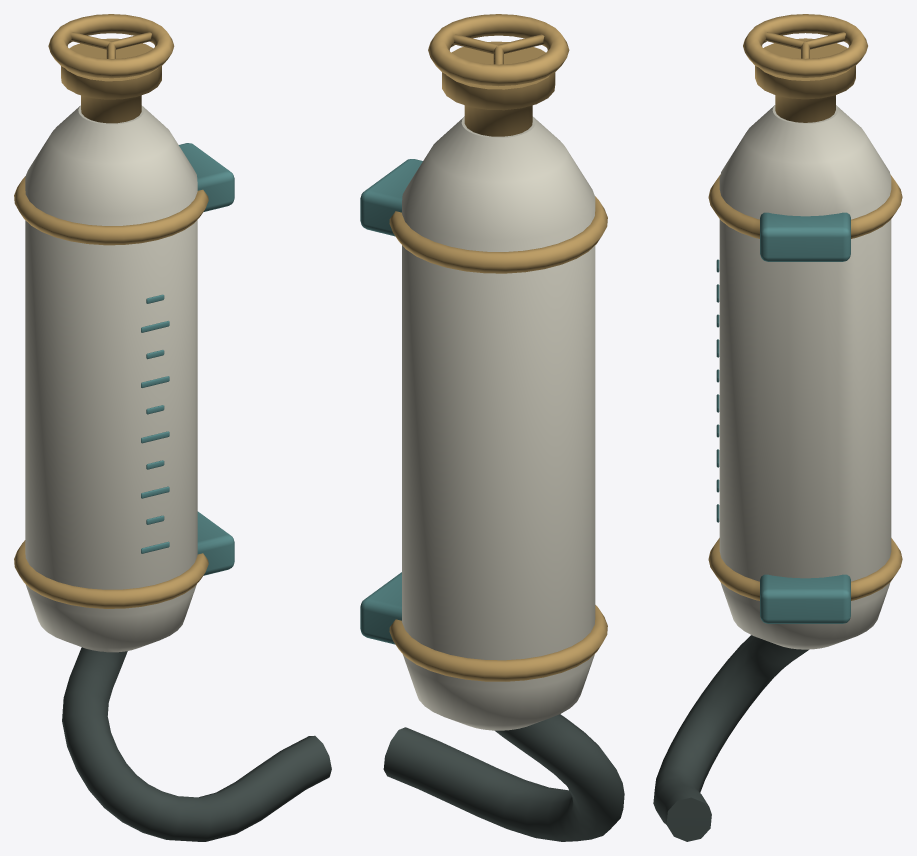
Rendered from dispenser_vessel.glb.
The picture shows the model from 3 angles, left to right: view 1: azimuth 30°, elevation 25°; view 2: azimuth 150°, elevation 25°; view 3: azimuth 270°, elevation 25°; orthographic projection. The views are drawn at different scales.
Parts seen in each view (by area): view 1: dispenser_vessel; view 2: dispenser_vessel; view 3: dispenser_vessel.
Part boxes in pixels (<box>): dispenser_vessel: <box>14,14,331,841</box>; dispenser_vessel: <box>360,14,624,841</box>; dispenser_vessel: <box>653,14,902,841</box>.
Size of the model in its own units: 0.5388 by 1.65 by 0.4929.
